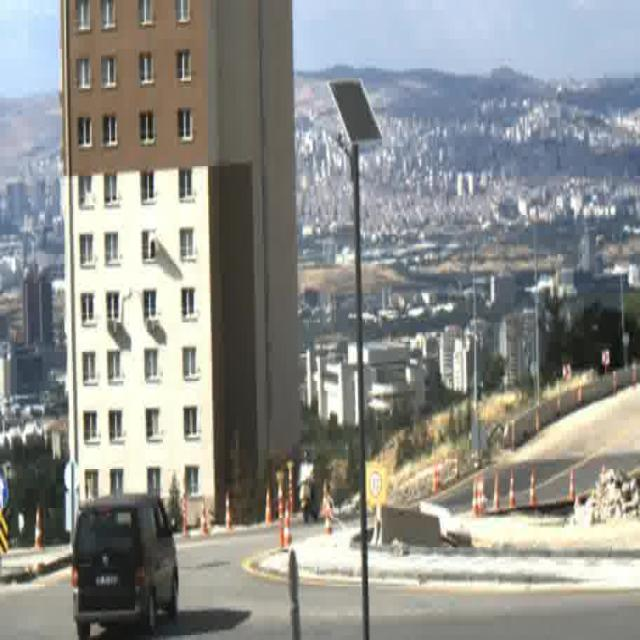Car: (74, 487, 179, 640)
Motorcycle: (298, 449, 320, 524)
